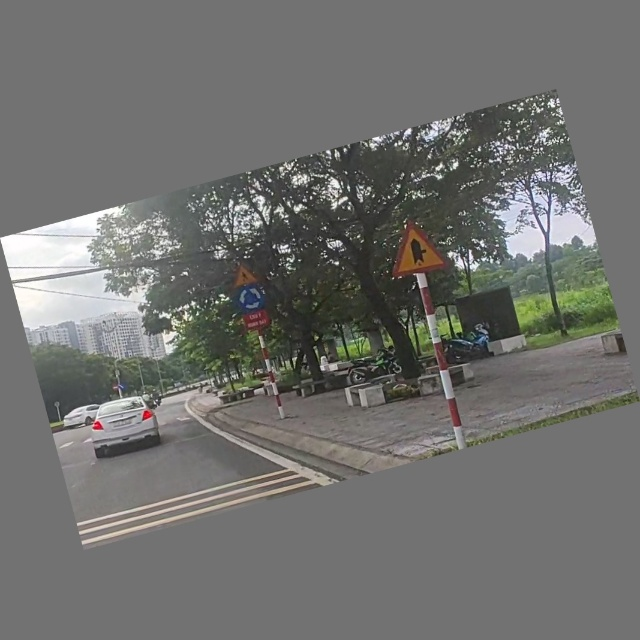P.102: (111, 383, 119, 392)
R.302a: (117, 382, 127, 392)
R.303: (233, 283, 270, 315)
W.207: (378, 211, 453, 285)
W.224: (226, 259, 262, 290)
